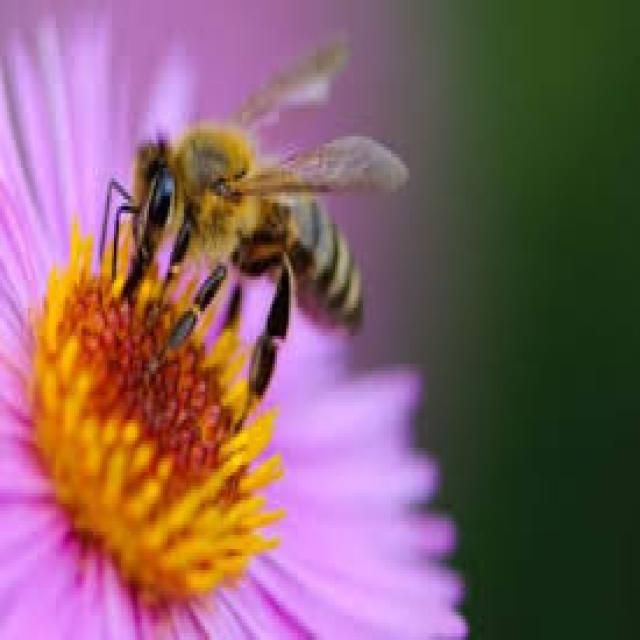Bees: (100, 40, 408, 411)
